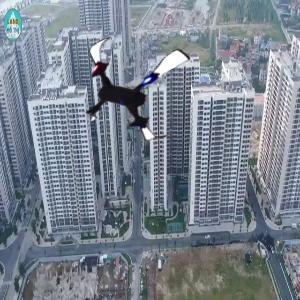drone: (74, 25, 198, 149)
